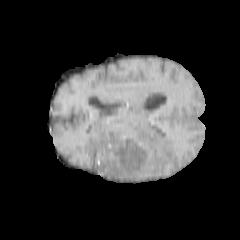glioma: (89, 120, 175, 180)
